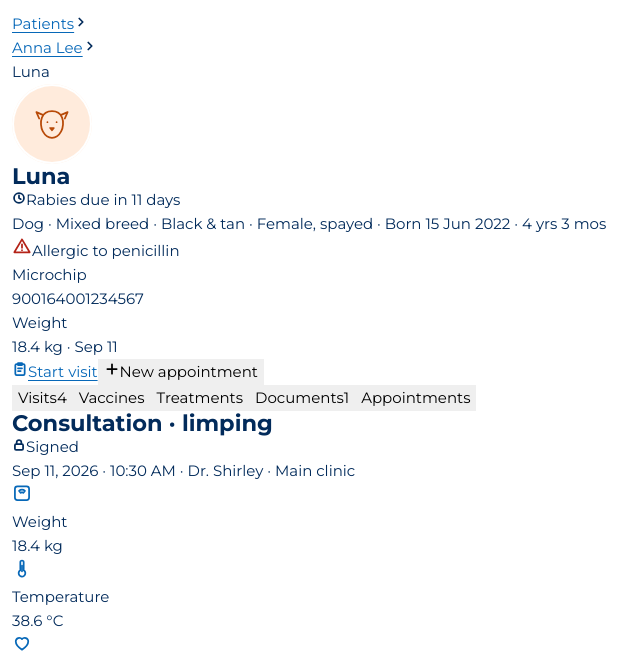
Test: PatientRecord › switches the tab of the history
This screenshot has width=623, height=654.
What coordinates should you click on to do the following:
click the tab "Treatments"
I would click on:
 (200, 398)
Its box is x1=150 y1=385 x2=249 y2=411.
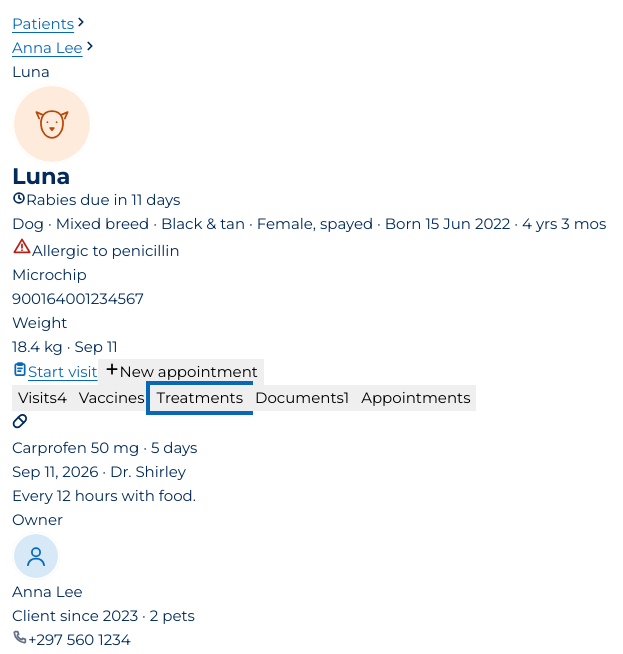
Expected: the text "Carprofen 50 mg · 5 days" is shown, x1=12 y1=438 x2=197 y2=457
Expected: the heading "Consultation · limping" is gone
